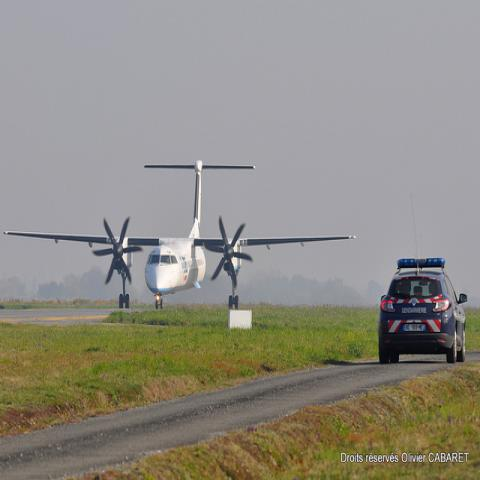car: (380, 258, 468, 364)
